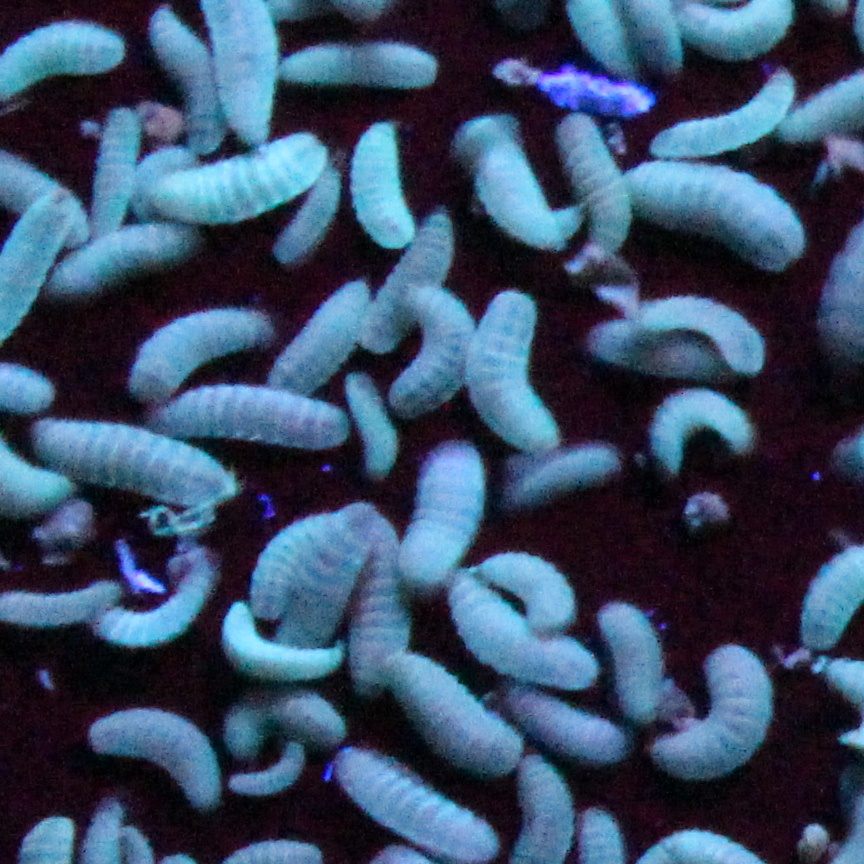larve: (441, 106, 588, 256), (24, 404, 234, 508), (435, 575, 605, 698), (617, 158, 807, 268), (378, 644, 526, 775), (460, 285, 568, 464), (651, 631, 774, 783), (147, 130, 335, 225), (449, 575, 601, 686), (115, 300, 275, 405), (646, 59, 807, 160), (82, 706, 228, 814), (268, 277, 382, 410), (365, 204, 461, 358), (132, 387, 347, 452), (395, 439, 484, 596), (49, 204, 195, 298), (618, 285, 776, 371), (211, 596, 351, 689), (385, 276, 478, 416), (551, 110, 636, 260), (143, 0, 224, 148), (640, 387, 767, 475), (249, 503, 343, 621), (593, 594, 672, 731), (468, 543, 586, 633), (97, 568, 220, 652), (218, 684, 348, 761), (346, 117, 418, 249), (273, 39, 438, 91), (337, 370, 404, 480), (76, 108, 136, 228), (511, 446, 615, 496), (229, 735, 306, 801)
